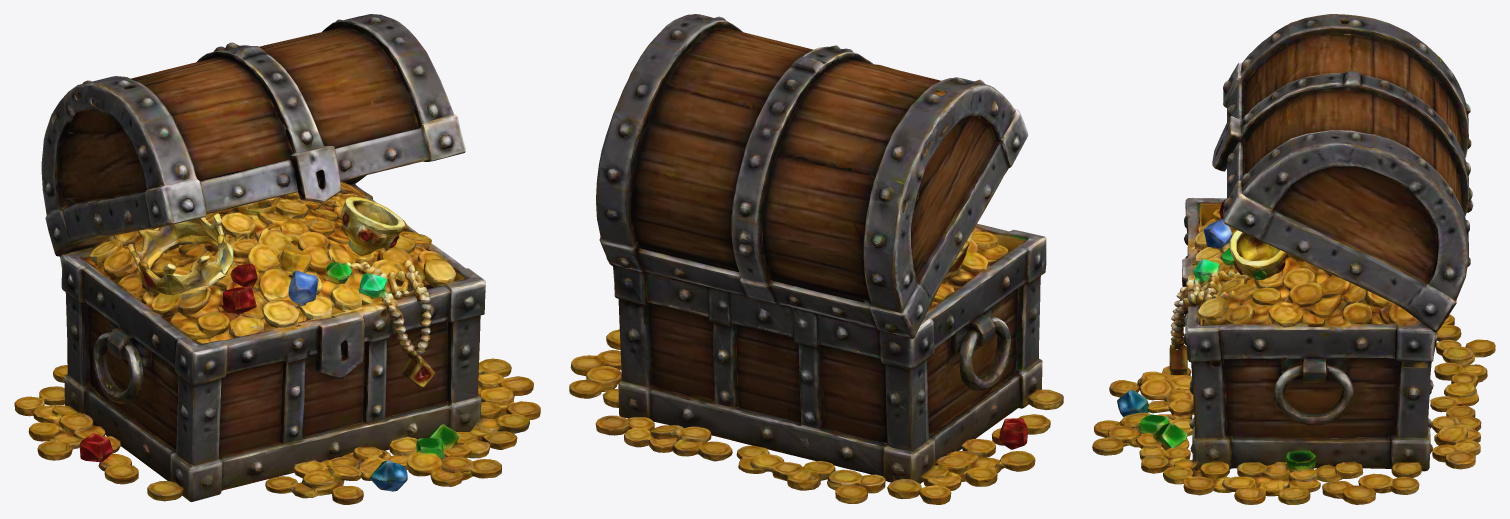
File: treasure_chestWithMesh_00001_.glb
The picture shows the model from 3 angles, left to right: view 1: azimuth 30°, elevation 25°; view 2: azimuth 150°, elevation 25°; view 3: azimuth 270°, elevation 25°; orthographic projection. The views are drawn at different scales.
Visible parts, largest first — view 1: geometry_0; view 2: geometry_0; view 3: geometry_0.
Boxes of the visible parts, x1=… form: geometry_0: x1=14, y1=14, x2=540, y2=504; geometry_0: x1=569, y1=14, x2=1063, y2=504; geometry_0: x1=1092, y1=14, x2=1495, y2=504.
Size of the model in its own units: 0.9991 by 0.7822 by 0.8496.
Materials: 1 (1 with a texture image).
